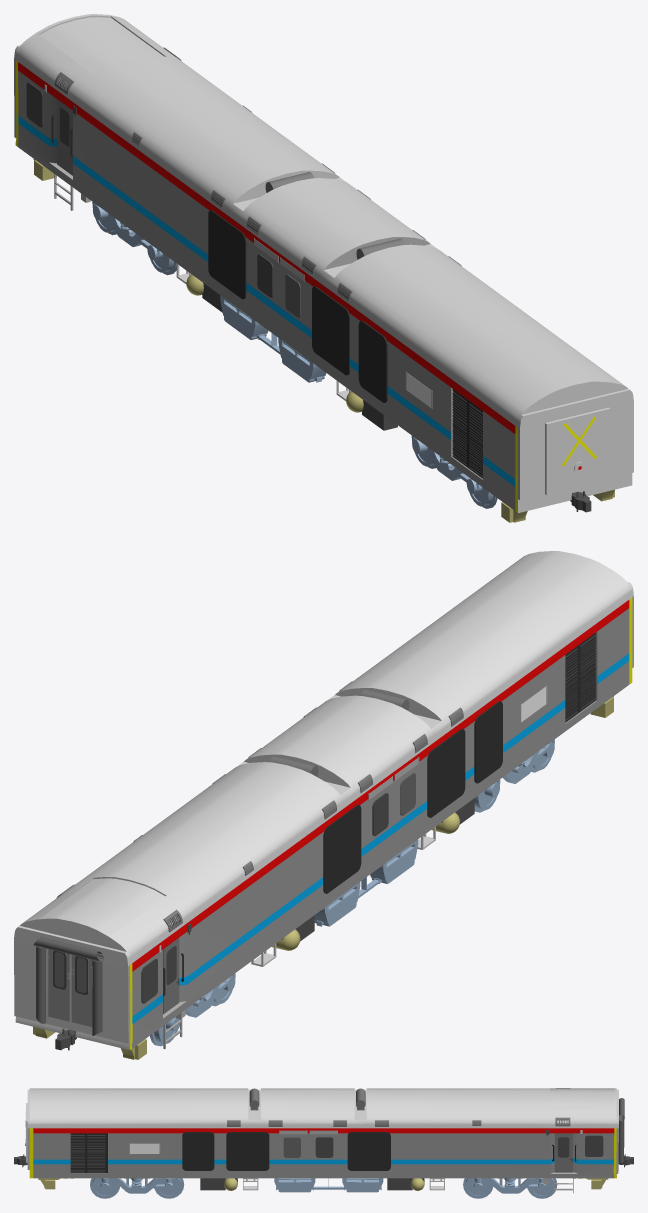
The model's file is generator.glb.
The picture shows the model from 3 angles, top to bottom: view 1: azimuth 30°, elevation 25°; view 2: azimuth 150°, elevation 25°; view 3: azimuth 270°, elevation 25°; orthographic projection. The views are drawn at different scales.
Visible parts, largest first — view 1: polySurface88, polySurface155, polySurface81, polySurface79, polySurface157, polySurface100, polySurface150; view 2: polySurface88, polySurface155, polySurface156, polySurface79, polySurface81, polySurface157, polySurface100, polySurface150, polySurface87; view 3: polySurface88, polySurface155, polySurface92, polySurface101, polySurface158, polySurface77, polySurface107, polySurface76, polySurface91, polySurface156, polySurface98, polySurface78 (+4 smaller).
Boxes of the visible parts, x1,y1,x2,y2 form: polySurface88: [14, 14, 633, 513]; polySurface155: [33, 159, 614, 522]; polySurface81: [208, 210, 246, 299]; polySurface79: [312, 286, 349, 375]; polySurface157: [452, 389, 482, 478]; polySurface100: [358, 320, 387, 402]; polySurface150: [54, 72, 352, 301]; polySurface88: [14, 551, 633, 1050]; polySurface155: [33, 696, 613, 1059]; polySurface156: [33, 937, 103, 1035]; polySurface79: [427, 729, 465, 817]; polySurface81: [323, 805, 361, 893]; polySurface157: [565, 632, 595, 722]; polySurface100: [474, 701, 502, 783]; polySurface150: [163, 707, 463, 932]; polySurface87: [163, 938, 179, 1014]; polySurface88: [26, 1088, 618, 1178]; polySurface155: [38, 1178, 608, 1198]; polySurface92: [347, 1132, 390, 1170]; polySurface101: [226, 1132, 269, 1170]; polySurface158: [70, 1133, 107, 1173]; polySurface77: [182, 1132, 214, 1170]; polySurface107: [227, 1117, 570, 1126]; polySurface76: [554, 1133, 572, 1172]; polySurface91: [585, 1135, 603, 1156]; polySurface156: [618, 1098, 624, 1162]; polySurface98: [315, 1137, 333, 1157]; polySurface78: [283, 1137, 300, 1157].
Bounding box in the file's own units: 0.0491 × 0.0655 × 0.3865.
